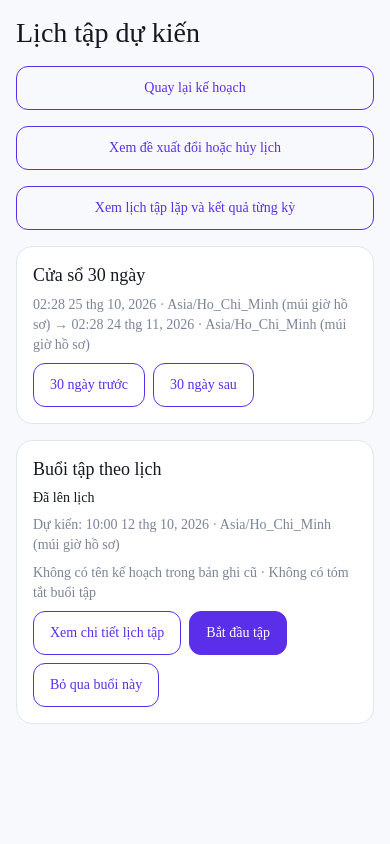
Test: Student Planned Workout calendar › does not replay a stale conflict and refetches calendar/current authority
What coordinates should you click on to do the following:
click the button with test id "schedule-start-occurrence-1"
I would click on:
 (238, 633)
Its box is [189,611,287,655].
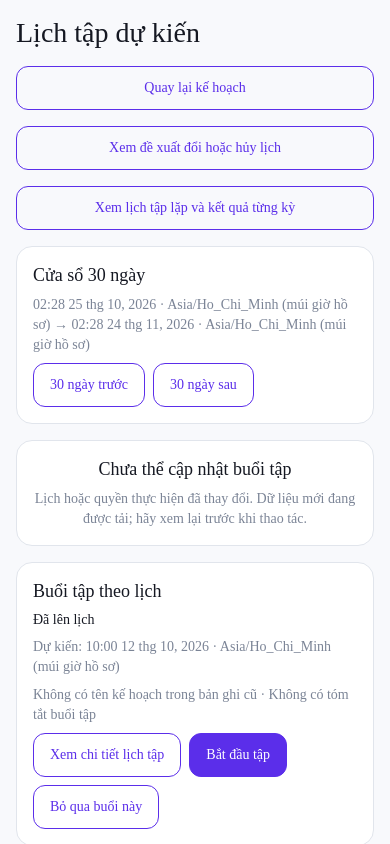
Expected: the element with test id "schedule-action-error" is shown, [16,440,374,546]
